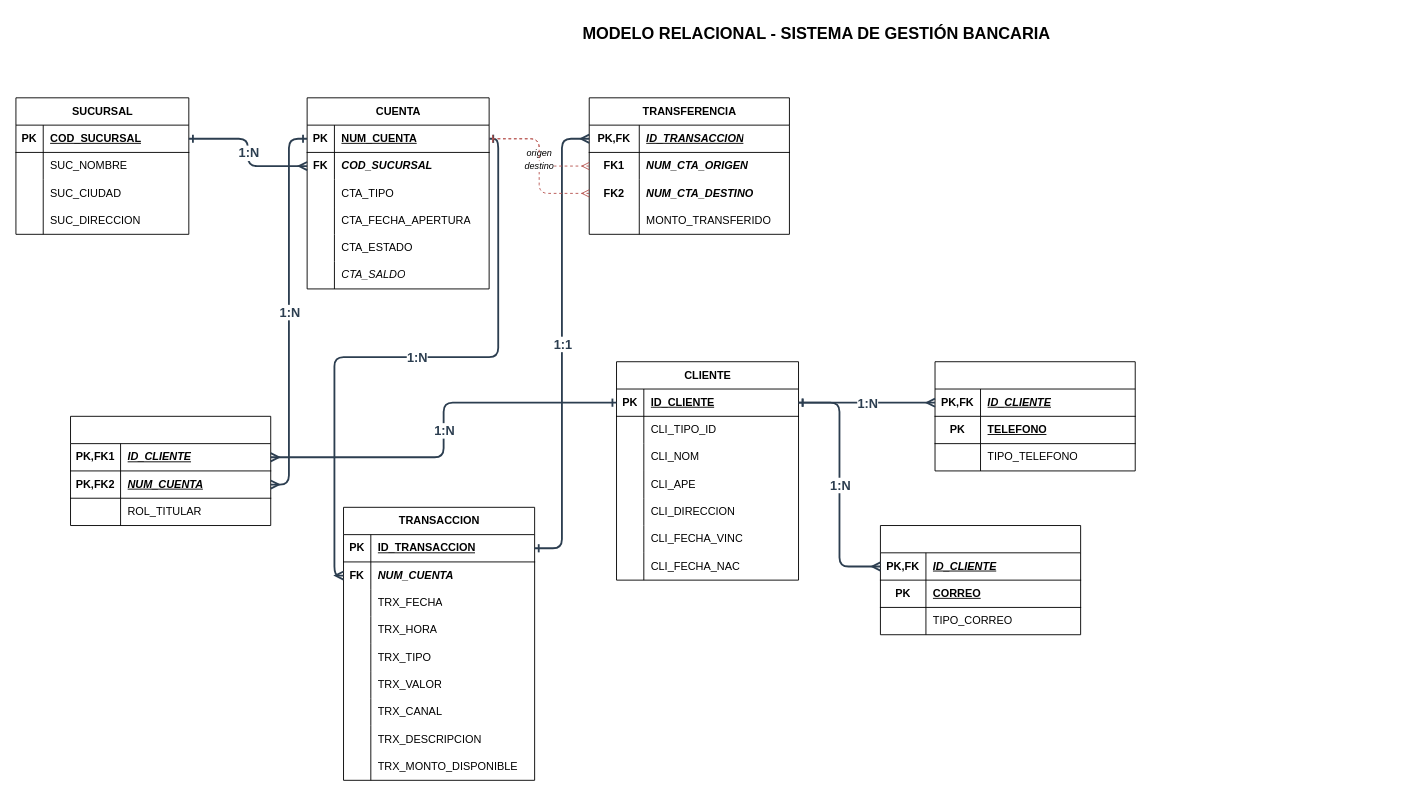
Image size: 1424x796. Some labels were removed from this diagram. The box of each missing label's shape, as (x1, y1, x2, y2) in pixels:
CLIENTE_CORREO: (880, 525, 1081, 635)
CLIENTE_CUENTA: (70, 415, 271, 526)
CLIENTE_TELEFONO: (934, 361, 1135, 471)
